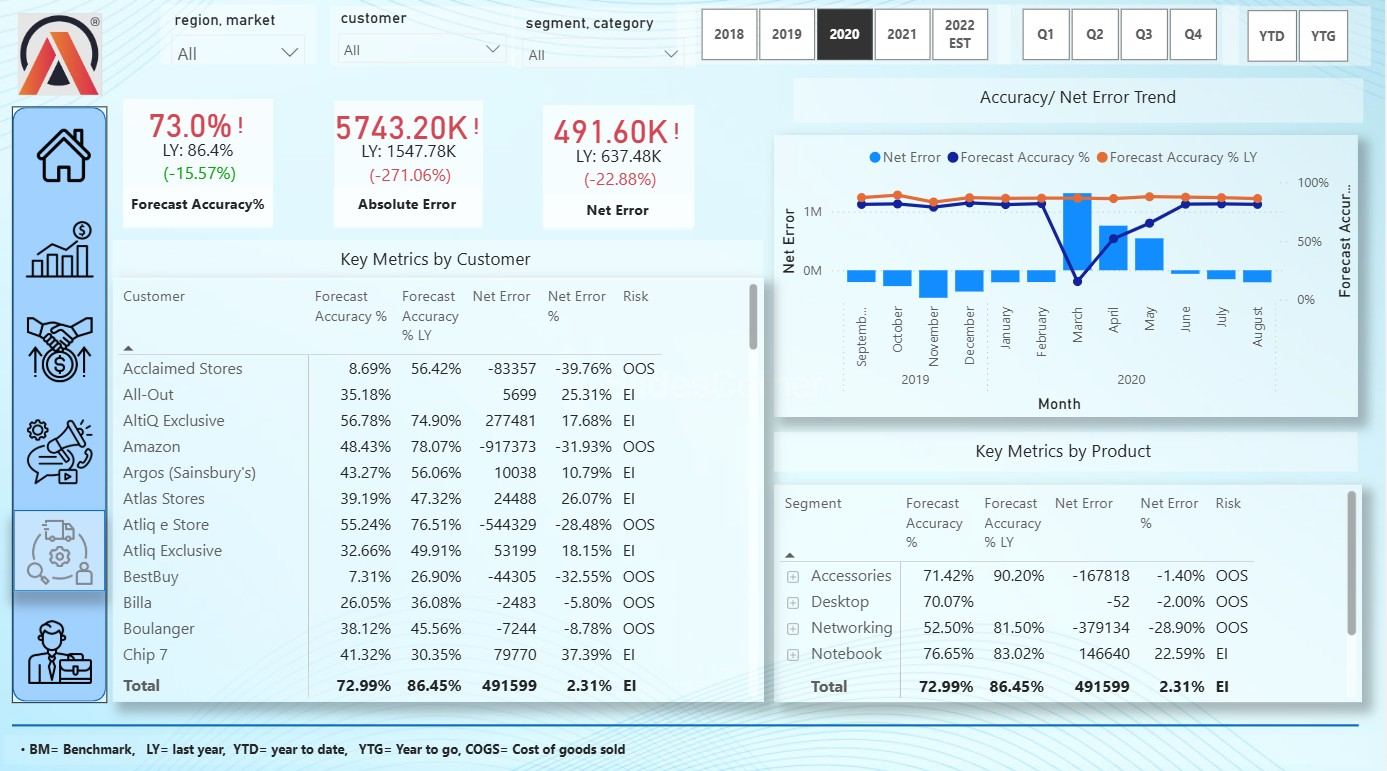

The dashboard page shown, as its layout file describes it:
{"tool":"powerbi","page":{"name":"Supply Chain View ","canvas":[1280,720],"ordinal":4},"visuals":[{"type":"slicer","fields":{"Values":["fiscal_year.FY_description"]},"box":[625.3,6.3,308.7,55.1],"z":0},{"type":"slicer","fields":{"Values":["dim_date.fy_quarter"]},"box":[921.4,6.3,223.7,55.1],"z":1000},{"type":"slicer","fields":{"Values":["dim_date.YTD_YTG"]},"box":[1129.3,7.9,137,55.1],"z":2000},{"type":"lineClusteredColumnComboChart","fields":{"Category":["dim_date.month.Variation.Date Hierarchy.Year","dim_date.month.Variation.Date Hierarchy.Month"],"Y":["Key Measures.Net Error"],"Y2":["Key Measures.Forecast Accuracy %","Key Measures.Forecast Accuracy % LY"]},"box":[715.2,128,539.2,260.8],"z":3000},{"type":"slicer","fields":{"Values":["dim_market.region","dim_market.market"]},"box":[148.1,6.3,143.3,55.1],"z":4000},{"type":"slicer","fields":{"Values":["dim_product.segment","dim_product.category"]},"box":[472.5,9.5,170.1,55.1],"z":5000},{"type":"slicer","fields":{"Values":["dim_customer.customer"]},"box":[305.6,7.9,170.1,55.1],"z":6000},{"type":"textbox","box":[104,224,601.6,36.8],"z":7000},{"type":"image","box":[11,9.5,88.2,86.6],"z":8000},{"type":"shape","box":[11,100.8,88.2,551.3],"z":9000},{"type":"image","box":[17.7,116.6,81.9,59.9],"z":10000},{"type":"image","box":[15.8,196.9,80.3,72.5],"z":11000},{"type":"image","box":[15.8,289.8,80.3,72.5],"z":12000},{"type":"image","box":[15.8,384.3,80.3,72.5],"z":13000},{"type":"image","box":[15.8,477.2,80.3,72.5],"z":14000},{"type":"image","box":[15.8,570.2,80.3,70.9],"z":15000},{"type":"shape","box":[12.8,473.6,84.8,75.2],"z":16000},{"type":"kpi","fields":{"TrendLine":["dim_date.fiscal_year"],"Indicator":["Key Measures.Forecast Accuracy %"],"Goal":["Key Measures.Forecast Accuracy % LY"]},"box":[113.4,94.5,138.6,118.1],"z":17000},{"type":"kpi","fields":{"TrendLine":["dim_date.fiscal_year"],"Indicator":["Key Measures.Abs Error"],"Goal":["Key Measures.Abs Error LY"]},"box":[308.7,96.1,137,116.6],"z":18000},{"type":"kpi","fields":{"TrendLine":["dim_date.fiscal_year"],"Indicator":["Key Measures.Net Error"],"Goal":["Key Measures.Net Error LY"]},"box":[502.3,99.2,139.7,113.4],"z":19000},{"type":"textbox","box":[113.4,176.4,138.6,37.8],"z":20000},{"type":"textbox","box":[501.5,181.1,137.9,33.8],"z":21000},{"type":"textbox","box":[307.1,176.4,137,37.8],"z":22000},{"type":"pivotTable","fields":{"Rows":["dim_customer.customer"],"Values":["Key Measures.Forecast Accuracy %","Key Measures.Forecast Accuracy % LY","Key Measures.Net Error","Key Measures.Net Error %","Key Measures.Risk"]},"box":[104,259.9,601.7,392.2],"z":23000},{"type":"textbox","box":[732.8,75.2,526.4,41.6],"z":24000},{"type":"pivotTable","fields":{"Rows":["dim_product.segment","dim_product.category"],"Values":["Key Measures.Forecast Accuracy %","Key Measures.Forecast Accuracy % LY","Key Measures.Net Error","Key Measures.Net Error %","Key Measures.Risk"]},"box":[715.3,450.3,543.5,201.5],"z":25000},{"type":"textbox","box":[715.2,401.6,539.2,36.8],"z":26000},{"type":"textbox","box":[4.1,682.6,1261.2,27],"z":27000},{"type":"shape","box":[10.8,650.2,1244.9,46],"z":28000}]}

Visuals, with their boxes in screenshot pixels (x1, y1, x2, y2), scaled from the page's 1280x720 canvas onto the 1387x771 screenshot:
slicer - fiscal_year.FY_description: bbox=[678, 7, 1012, 66]
slicer - dim_date.fy_quarter: bbox=[998, 7, 1241, 66]
slicer - dim_date.YTD_YTG: bbox=[1224, 8, 1372, 67]
lineClusteredColumnComboChart - dim_date.month.Variation.Date Hierarchy.Year x dim_date.month.Variation.Date Hierarchy.Month: bbox=[775, 137, 1359, 416]
slicer - dim_market.region x dim_market.market: bbox=[160, 7, 316, 66]
slicer - dim_product.segment x dim_product.category: bbox=[512, 10, 696, 69]
slicer - dim_customer.customer: bbox=[331, 8, 515, 67]
textbox: bbox=[113, 240, 765, 279]
image: bbox=[12, 10, 107, 103]
shape: bbox=[12, 108, 107, 698]
image: bbox=[19, 125, 108, 189]
image: bbox=[17, 211, 104, 288]
image: bbox=[17, 310, 104, 388]
image: bbox=[17, 412, 104, 489]
image: bbox=[17, 511, 104, 589]
image: bbox=[17, 611, 104, 687]
shape: bbox=[14, 507, 106, 588]
kpi - dim_date.fiscal_year x Key Measures.Forecast Accuracy %: bbox=[123, 101, 273, 228]
kpi - dim_date.fiscal_year x Key Measures.Abs Error: bbox=[335, 103, 483, 228]
kpi - dim_date.fiscal_year x Key Measures.Net Error: bbox=[544, 106, 696, 228]
textbox: bbox=[123, 189, 273, 229]
textbox: bbox=[543, 194, 693, 230]
textbox: bbox=[333, 189, 481, 229]
pivotTable - dim_customer.customer x Key Measures.Forecast Accuracy %: bbox=[113, 278, 765, 698]
textbox: bbox=[794, 81, 1364, 125]
pivotTable - dim_product.segment x dim_product.category: bbox=[775, 482, 1364, 698]
textbox: bbox=[775, 430, 1359, 469]
textbox: bbox=[4, 731, 1371, 760]
shape: bbox=[12, 696, 1361, 746]
